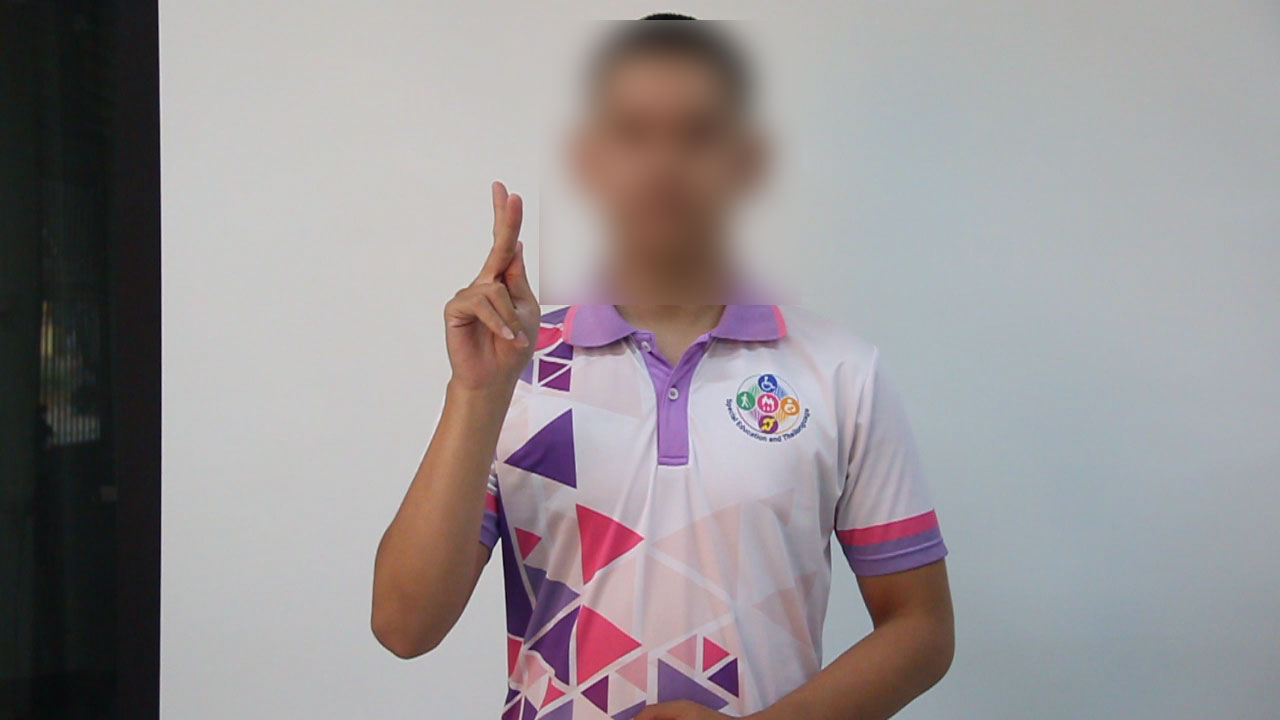ko: (425, 175, 559, 398)
